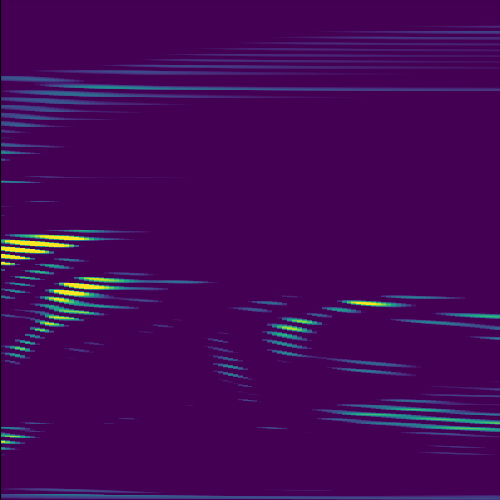semblance: (1, 222, 109, 270), (40, 275, 135, 309)
